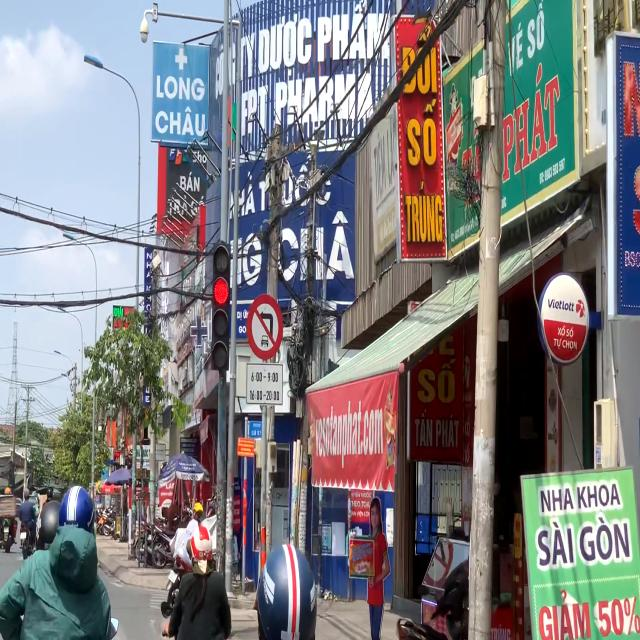P.103c: (247, 294, 283, 358)
